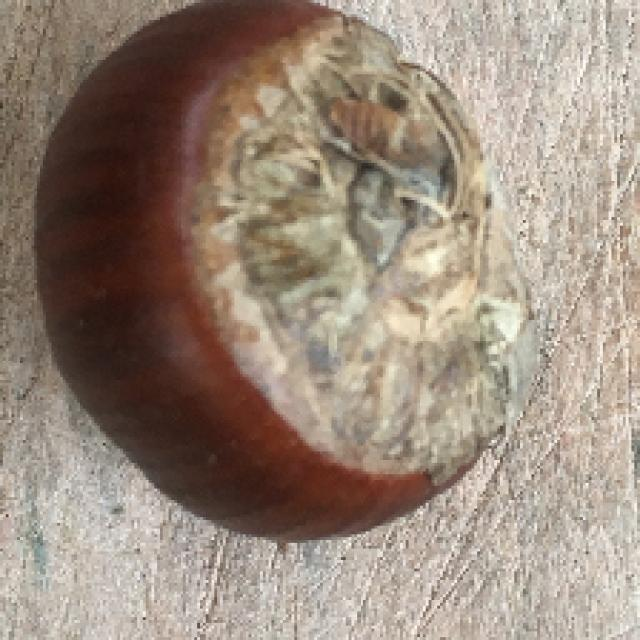damagedHazelnut: (42, 1, 526, 546)
